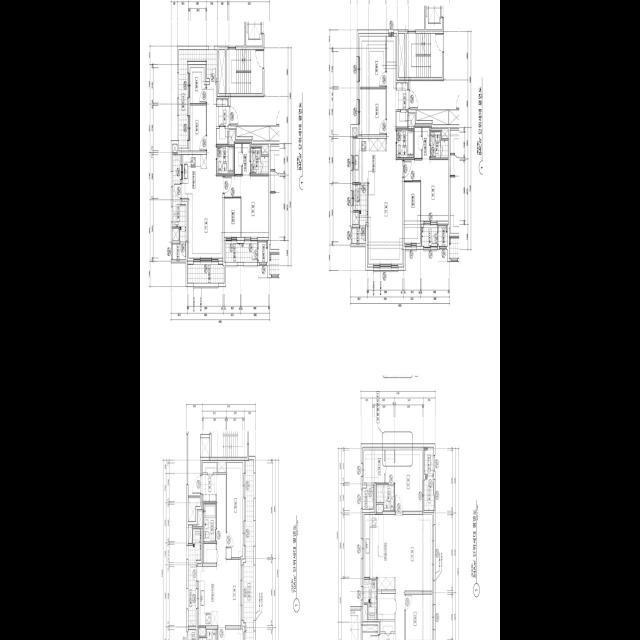background: (140, 0, 500, 640)
space_balconi: (179, 49, 217, 147), (243, 459, 254, 640), (188, 528, 201, 625), (173, 154, 186, 241), (188, 264, 224, 282), (226, 243, 258, 262), (354, 184, 368, 225), (364, 579, 377, 619), (424, 475, 434, 510), (422, 225, 437, 245)
space_bedroom: (225, 175, 269, 236), (404, 159, 448, 220), (395, 449, 422, 511), (227, 462, 243, 557), (360, 36, 386, 86), (406, 594, 432, 640), (360, 88, 386, 134), (190, 104, 206, 150), (190, 67, 206, 103), (218, 629, 243, 640)
space_dressroom: (364, 449, 394, 482), (235, 143, 250, 174), (415, 127, 430, 157)
space_front: (201, 462, 217, 501), (396, 82, 409, 109), (216, 98, 228, 126), (379, 633, 395, 640)
space_kitchen: (364, 514, 395, 589), (354, 138, 386, 182), (197, 566, 217, 625), (181, 154, 207, 198)
space_living_room: (369, 36, 403, 263), (189, 84, 223, 257), (395, 514, 432, 640), (217, 474, 241, 625)
space_multipurpose_space: (404, 182, 420, 243), (224, 198, 240, 237)
space_other: (417, 109, 449, 124), (237, 126, 269, 140), (378, 593, 395, 619), (398, 33, 405, 76), (188, 497, 200, 521), (219, 49, 225, 93), (203, 543, 216, 562), (363, 485, 373, 509), (352, 227, 366, 243), (173, 244, 186, 259), (200, 437, 210, 456), (397, 111, 408, 127), (217, 128, 228, 143), (380, 621, 395, 631), (363, 625, 378, 631), (188, 629, 196, 640), (229, 130, 235, 144), (408, 114, 414, 128), (218, 462, 226, 472), (198, 511, 203, 526), (188, 525, 192, 543), (173, 228, 179, 240), (353, 212, 359, 222), (199, 627, 206, 635), (262, 146, 269, 154), (376, 504, 383, 512), (442, 129, 448, 138), (364, 604, 367, 619), (173, 144, 177, 152), (353, 129, 357, 136)
space_outdoor_room: (424, 447, 434, 473), (258, 241, 268, 262), (438, 225, 447, 245)
space_staircase: (227, 49, 263, 92), (406, 33, 442, 76)
space_toilet: (203, 503, 216, 541), (217, 145, 234, 174), (251, 147, 269, 174), (376, 484, 394, 511), (397, 129, 414, 157), (430, 131, 448, 157), (199, 629, 217, 640)
